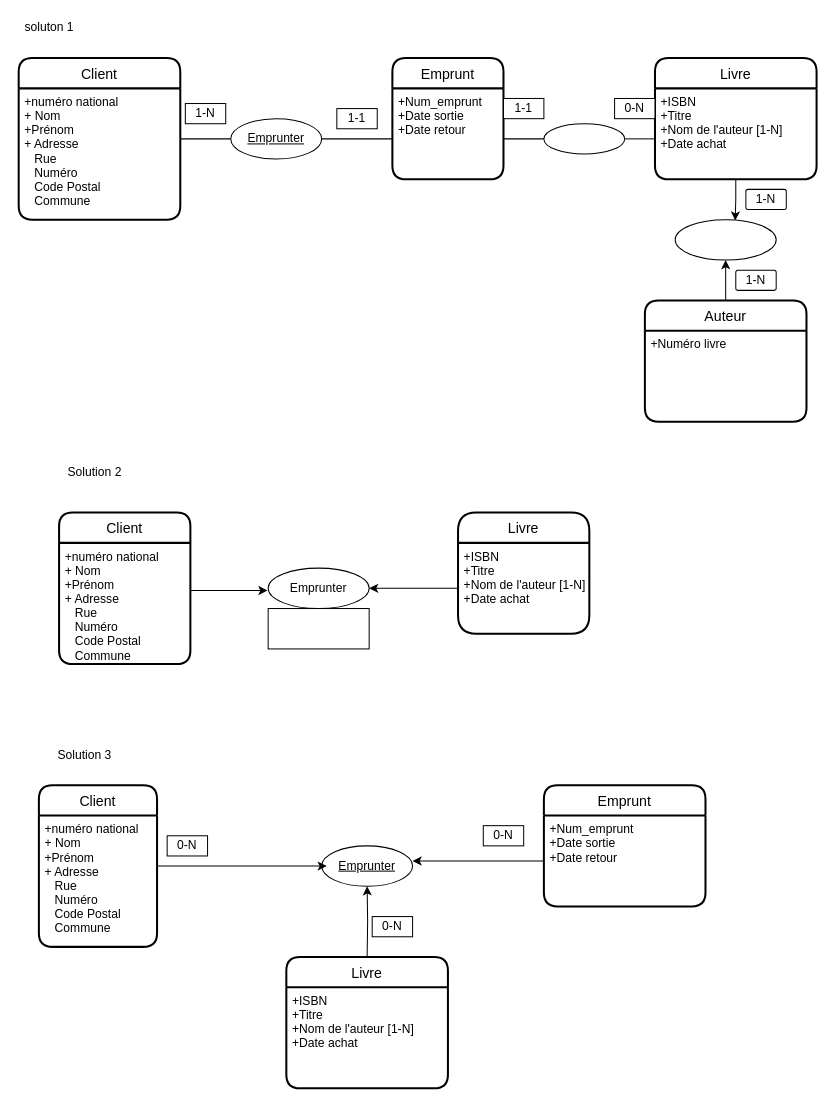
The diagram is 834 pixels wide and 1106 high, and some of its shapes have lost their labels. The centre of each missing label's shape, as x and y in pixels:
"Concerne" goes at point 584,138.
"Date entrer Date sortie" goes at point 318,628.
"Ecrire" goes at point 725,239.
